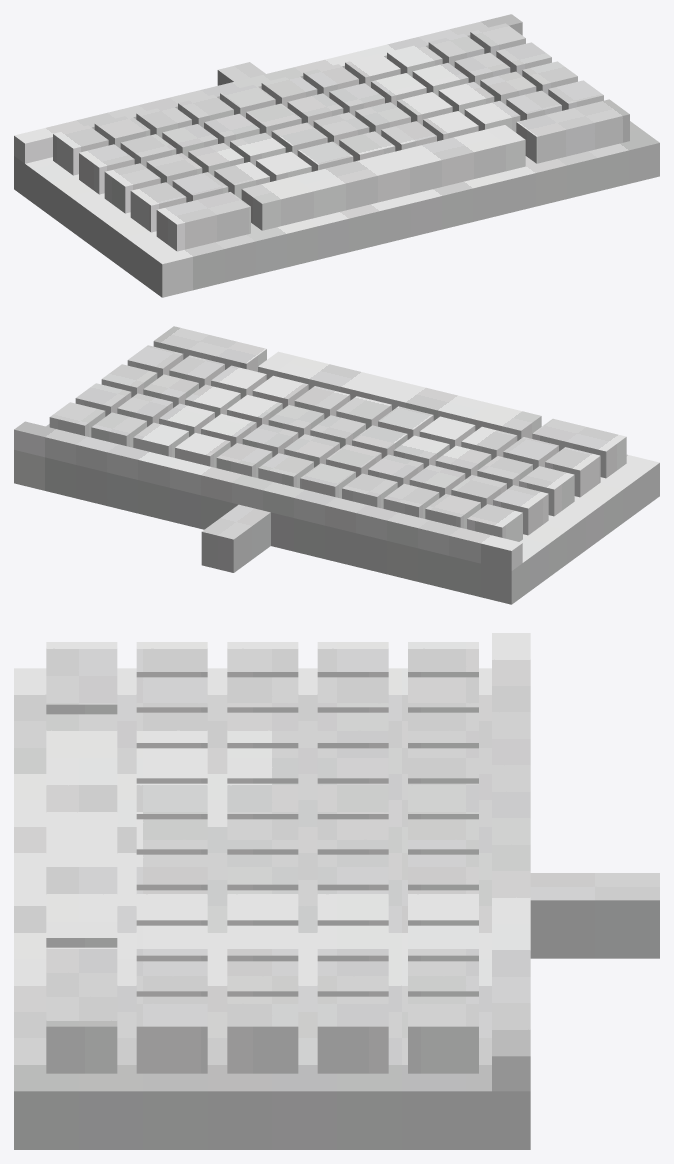
Rendered from keyboard.gltf.
3 renders of one model, top to bottom at view 1: azimuth 30°, elevation 25°; view 2: azimuth 150°, elevation 25°; view 3: azimuth 270°, elevation 25°, orthographic. The views are drawn at different scales.
Parts seen in each view (by area): view 1: base, barra_espaciadora, borde_trasero, tecla_der, tecla_izq, tecla_f2_c0, tecla_f3_c0, tecla_f0_c0, tecla_f1_c0, tecla_f3_c8, tecla_f3_c2, tecla_f0_c5 (+38 smaller); view 2: base, borde_trasero, barra_espaciadora, cable, tecla_der, tecla_izq, tecla_f2_c0, tecla_f3_c0, tecla_f1_c0, tecla_f0_c0, tecla_f0_c2, tecla_f0_c10 (+38 smaller); view 3: base, borde_trasero, barra_espaciadora, cable, tecla_der, tecla_f1_c10, tecla_f2_c10, tecla_f3_c10, tecla_f0_c10, tecla_izq, tecla_f1_c2, tecla_f1_c4 (+38 smaller).
Part boxes in pixels (x1=…): base: x1=14, y1=121, x2=659, y2=297; barra_espaciadora: x1=241, y1=125, x2=525, y2=230; borde_trasero: x1=14, y1=14, x2=522, y2=163; tecla_der: x1=516, y1=99, x2=629, y2=163; tecla_izq: x1=156, y1=192, x2=250, y2=251; tecla_f2_c0: x1=104, y1=163, x2=160, y2=213; tecla_f3_c0: x1=130, y1=182, x2=186, y2=232; tecla_f0_c0: x1=53, y1=125, x2=108, y2=175; tecla_f1_c0: x1=79, y1=144, x2=134, y2=194; tecla_f3_c8: x1=464, y1=101, x2=520, y2=132; tecla_f3_c2: x1=214, y1=162, x2=269, y2=199; tecla_f0_c5: x1=261, y1=74, x2=317, y2=107; base: x1=14, y1=424, x2=659, y2=604; borde_trasero: x1=14, y1=421, x2=522, y2=570; barra_espaciadora: x1=258, y1=351, x2=541, y2=440; cable: x1=201, y1=504, x2=270, y2=572; tecla_der: x1=153, y1=326, x2=266, y2=371; tecla_izq: x1=532, y1=418, x2=626, y2=478; tecla_f2_c0: x1=519, y1=466, x2=574, y2=516; tecla_f3_c0: x1=545, y1=447, x2=600, y2=497; tecla_f1_c0: x1=493, y1=485, x2=548, y2=535; tecla_f0_c0: x1=467, y1=504, x2=522, y2=541; tecla_f0_c2: x1=383, y1=483, x2=439, y2=518; tecla_f0_c10: x1=49, y1=402, x2=105, y2=437; base: x1=14, y1=668, x2=530, y2=1149; borde_trasero: x1=492, y1=633, x2=530, y2=1091; barra_espaciadora: x1=46, y1=714, x2=117, y2=947; cable: x1=530, y1=873, x2=659, y2=958; tecla_der: x1=46, y1=947, x2=117, y2=1073; tecla_f1_c10: x1=317, y1=996, x2=388, y2=1073; tecla_f2_c10: x1=227, y1=996, x2=298, y2=1073; tecla_f3_c10: x1=136, y1=996, x2=207, y2=1073; tecla_f0_c10: x1=408, y1=996, x2=478, y2=1073; tecla_izq: x1=46, y1=642, x2=117, y2=714; tecla_f1_c2: x1=317, y1=712, x2=388, y2=748; tecla_f1_c4: x1=317, y1=783, x2=388, y2=819.
Size of the model in its own units: 0.9688 by 0.1125 by 0.625.
Materials: 3 (3 with a texture image).
